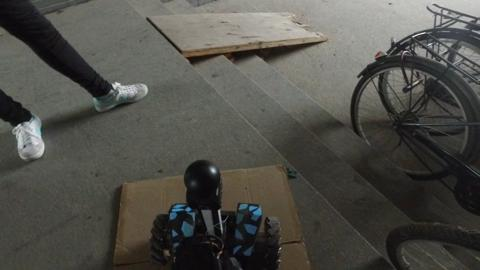chariot: (150, 159, 285, 269)
